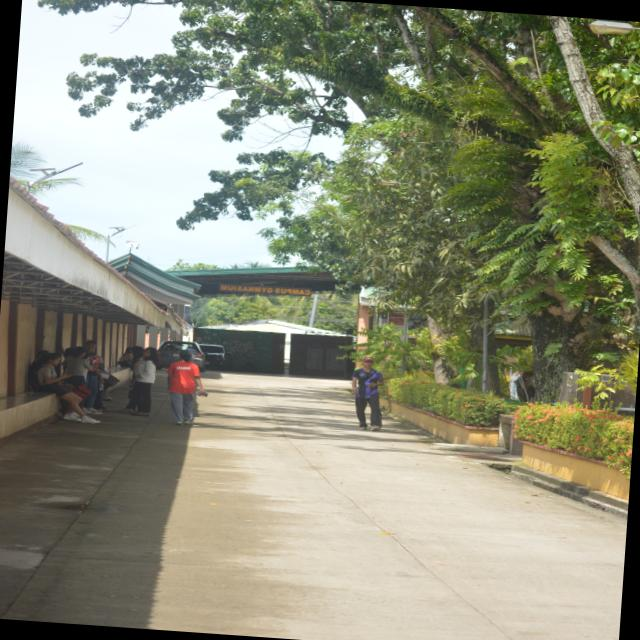person: (37, 354, 98, 423), (167, 350, 203, 425), (351, 357, 382, 431), (132, 348, 158, 416)
